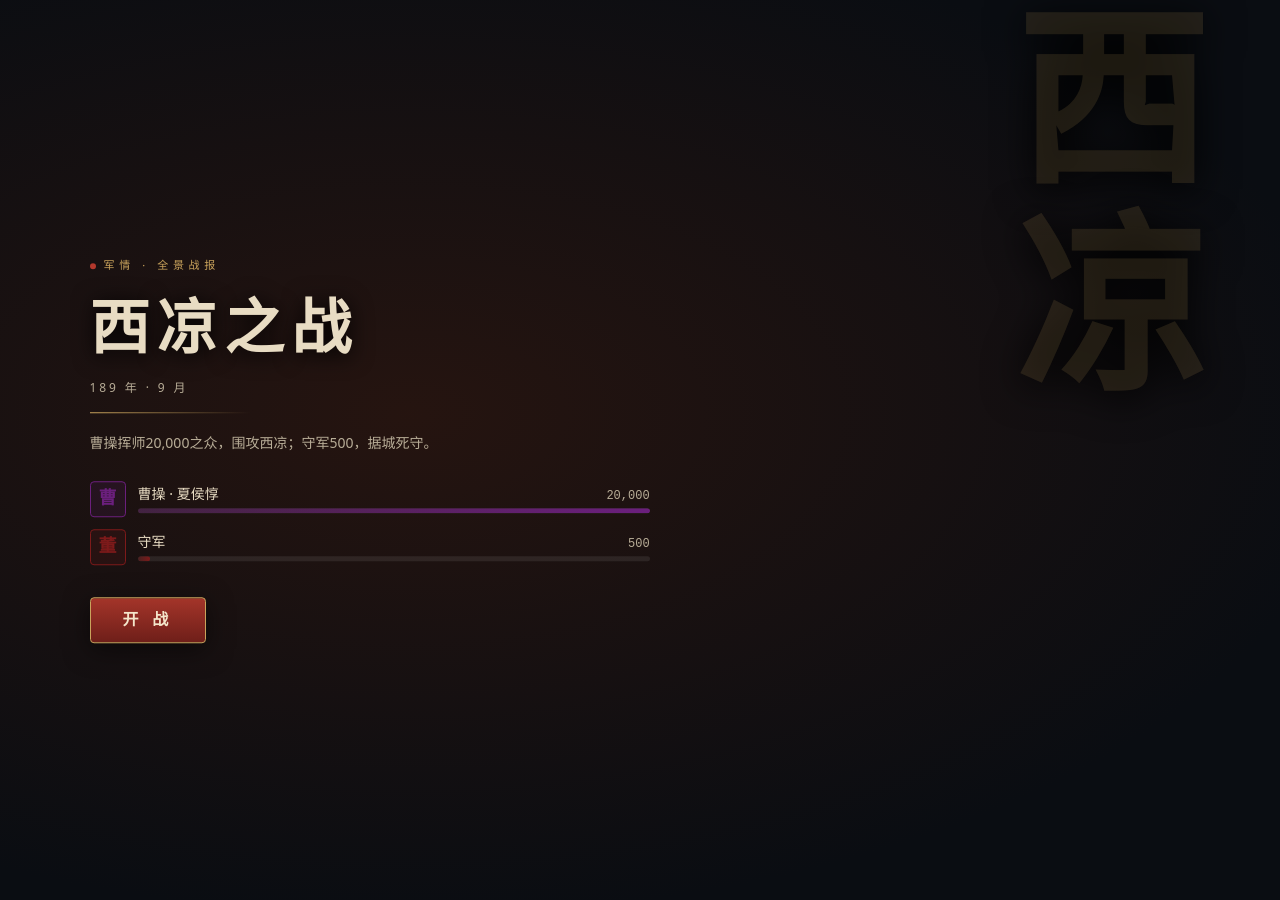
BattleScreen › narrates a rally on a day whose events include a rally
// Close the intro card so the documentary narration subtitle is on screen.
Click the button "开 战" at (148, 620), box 90,597 -> 206,643
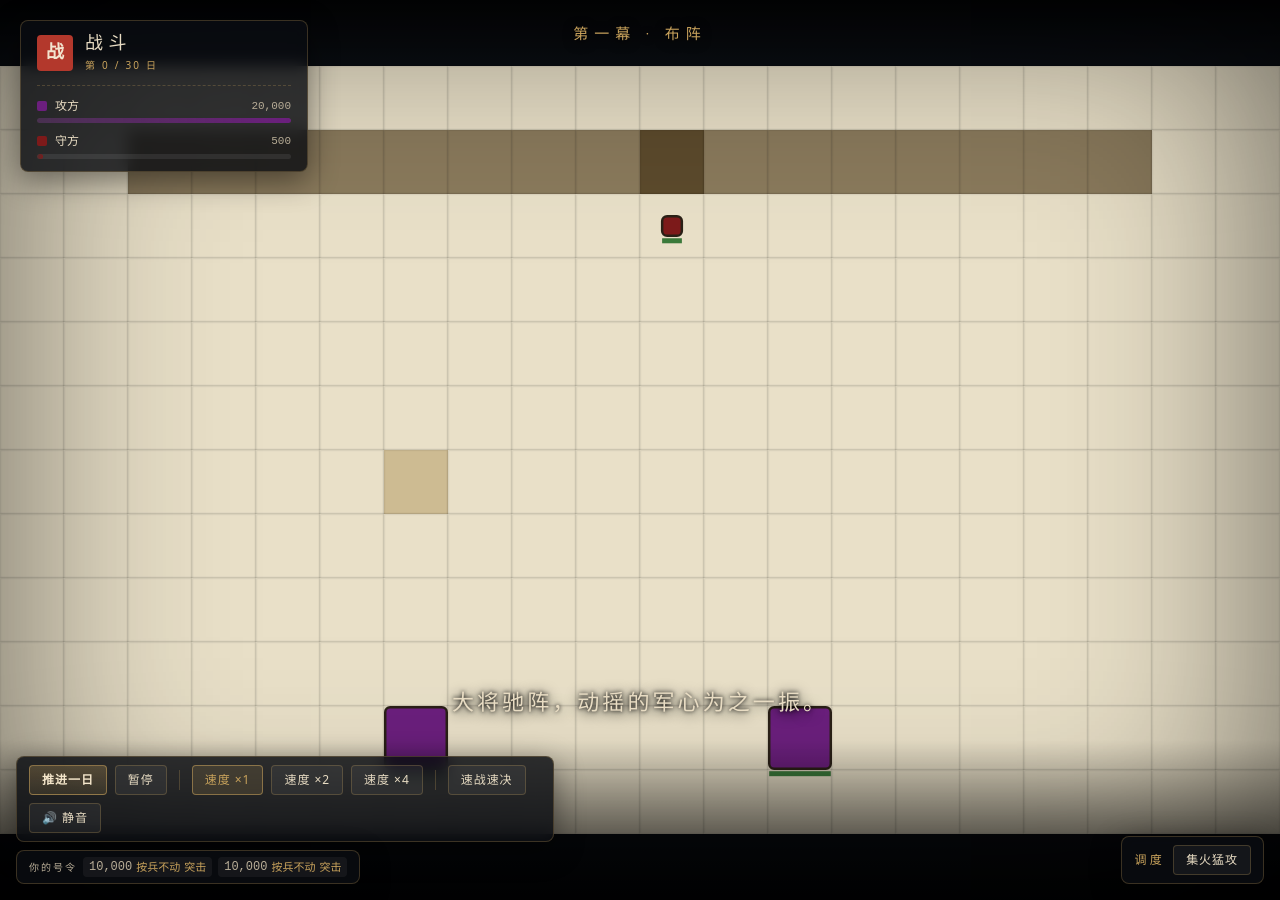
Result: the text "大将驰阵，动摇的军心为之一振。" is shown at 452,687 -> 828,720
